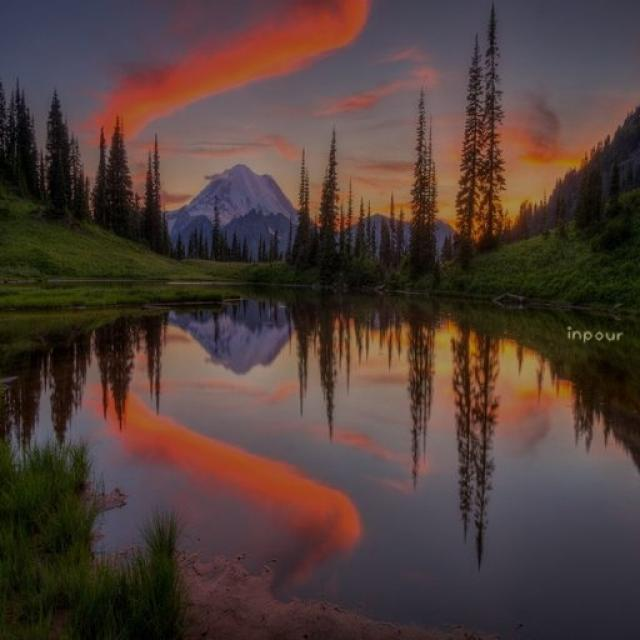watermark: (562, 326, 635, 343)
